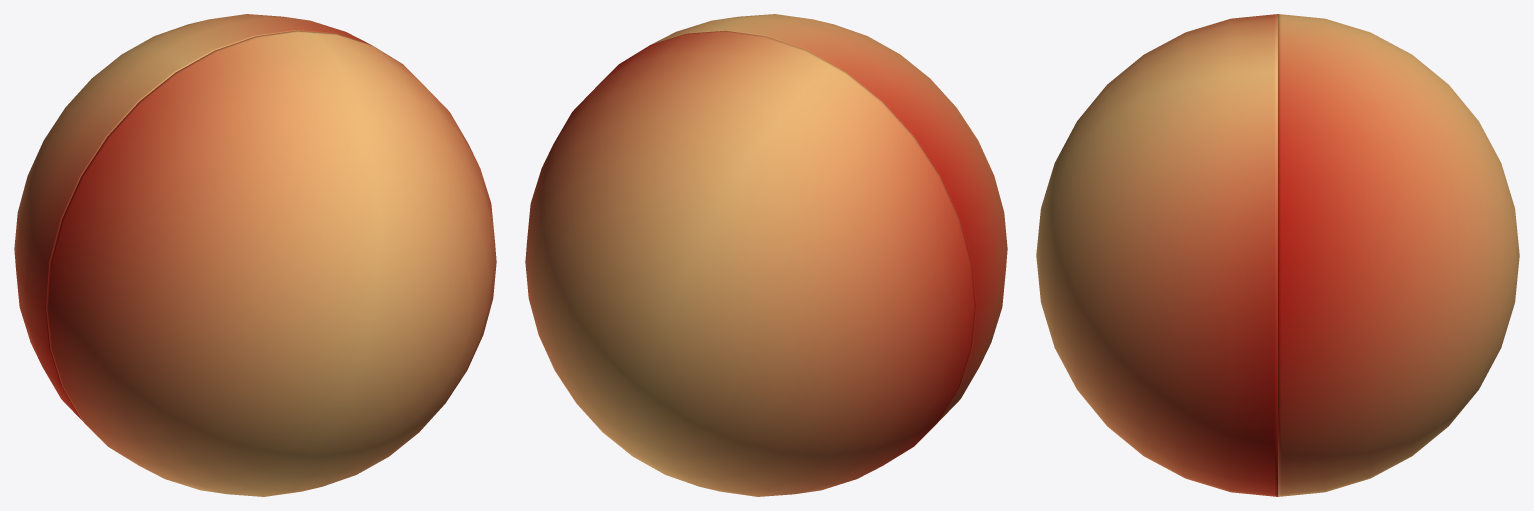
The model's file is ball.fbx.
3 renders of one model, left to right at view 1: azimuth 30°, elevation 25°; view 2: azimuth 150°, elevation 25°; view 3: azimuth 270°, elevation 25°, orthographic.
Visible parts, largest first — view 1: ball_part_1, ball_part_2; view 2: ball_part_2, ball_part_1; view 3: ball_part_1, ball_part_2.
Part boxes in pixels (x1=…): ball_part_1: x1=46, y1=30, x2=496, y2=496; ball_part_2: x1=14, y1=14, x2=370, y2=436; ball_part_2: x1=525, y1=30, x2=975, y2=496; ball_part_1: x1=651, y1=14, x2=1007, y2=436; ball_part_1: x1=1036, y1=14, x2=1277, y2=496; ball_part_2: x1=1278, y1=14, x2=1519, y2=496.
Bounding box in the file's own units: 112 × 112 × 112.
1 material, 1 textured.
